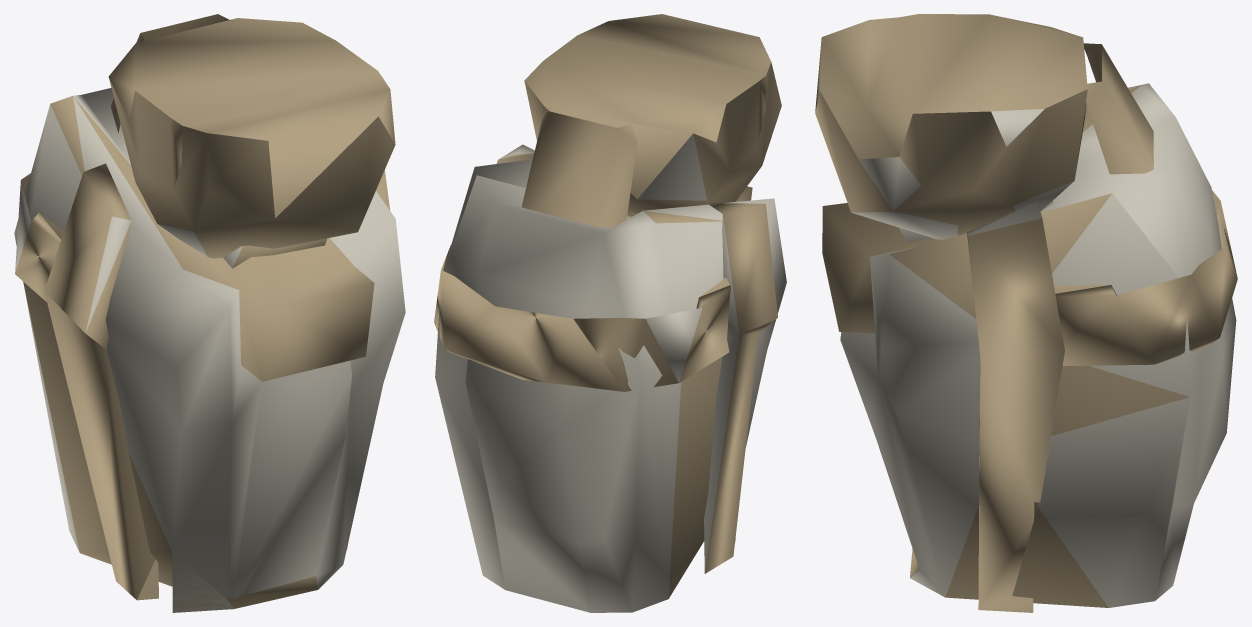
The model's file is GolemShin.glb.
3 renders of one model, left to right at view 1: azimuth 30°, elevation 25°; view 2: azimuth 150°, elevation 25°; view 3: azimuth 270°, elevation 25°, orthographic. The views are drawn at different scales.
Visible parts, largest first — view 1: GolemShin_Bend.018, PART_GolemShin.018; view 2: GolemShin_Bend.018, PART_GolemShin.018; view 3: GolemShin_Bend.018, PART_GolemShin.018.
Boxes of the visible parts, left/top/right/bottom form: GolemShin_Bend.018: left=14, top=14, right=405, bottom=612; PART_GolemShin.018: left=108, top=18, right=395, bottom=217; GolemShin_Bend.018: left=434, top=62, right=786, bottom=612; PART_GolemShin.018: left=524, top=14, right=771, bottom=199; GolemShin_Bend.018: left=815, top=43, right=1237, bottom=612; PART_GolemShin.018: left=815, top=14, right=1087, bottom=159.
Bounding box in the file's own units: 0.4524 × 0.7042 × 0.5404.
